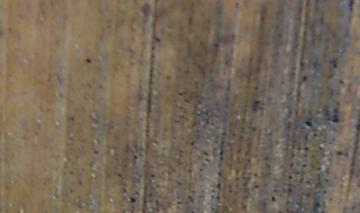tarspot: (141, 2, 151, 27), (330, 107, 339, 125), (149, 31, 161, 44), (346, 1, 357, 14), (303, 118, 314, 129), (327, 59, 337, 71), (283, 120, 293, 132), (352, 120, 360, 133), (335, 149, 344, 160), (339, 205, 351, 213), (295, 59, 305, 68), (309, 129, 318, 138), (115, 172, 125, 180), (299, 74, 308, 82), (336, 77, 344, 86), (268, 195, 276, 204), (301, 145, 310, 153), (84, 56, 93, 64), (129, 196, 137, 205), (186, 195, 195, 203), (251, 98, 261, 105), (163, 74, 173, 81), (250, 125, 257, 135), (350, 203, 357, 213), (91, 148, 99, 156), (68, 115, 76, 123), (128, 205, 136, 213), (286, 186, 293, 195), (121, 186, 128, 195), (177, 88, 183, 98), (285, 198, 291, 208), (313, 200, 320, 208), (304, 178, 311, 186), (131, 154, 139, 161), (187, 140, 195, 147), (212, 42, 220, 49), (120, 194, 128, 201), (146, 190, 153, 198), (233, 1, 240, 9), (288, 161, 295, 169), (320, 187, 327, 195), (218, 148, 225, 156), (215, 181, 221, 190), (286, 174, 293, 181), (294, 144, 301, 151), (253, 183, 260, 190), (252, 171, 259, 178), (259, 14, 265, 22), (326, 196, 334, 202), (304, 190, 310, 198), (203, 148, 208, 157), (186, 167, 191, 176), (301, 162, 308, 168), (149, 171, 155, 178), (241, 203, 247, 210), (323, 177, 329, 184), (283, 207, 290, 213), (218, 155, 225, 161), (120, 208, 128, 213), (214, 195, 221, 200), (318, 208, 325, 213), (197, 167, 203, 172)
